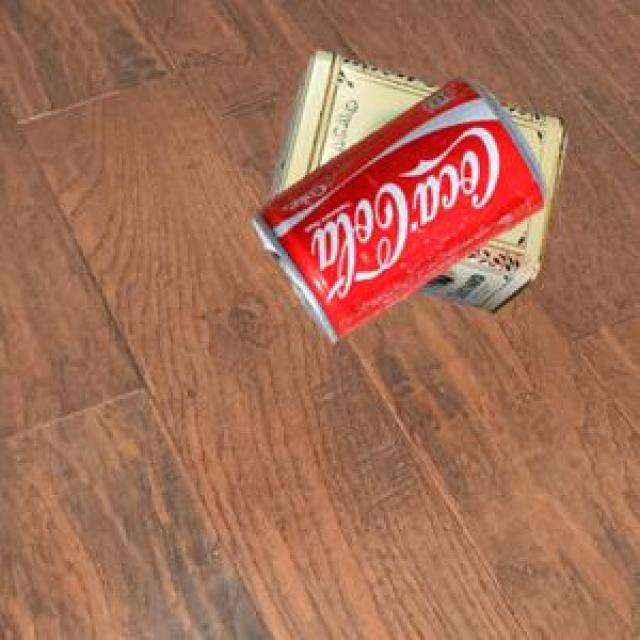Can: (249, 76, 545, 338), (266, 48, 562, 310)
